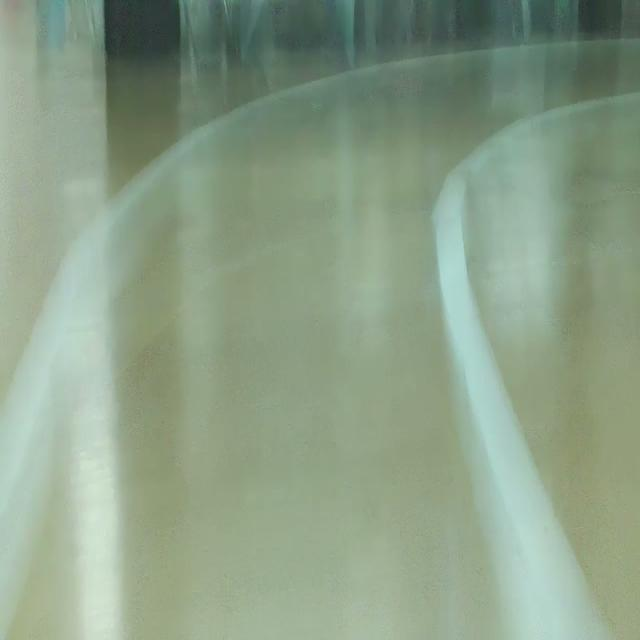Road-Area: (0, 44, 639, 639)
